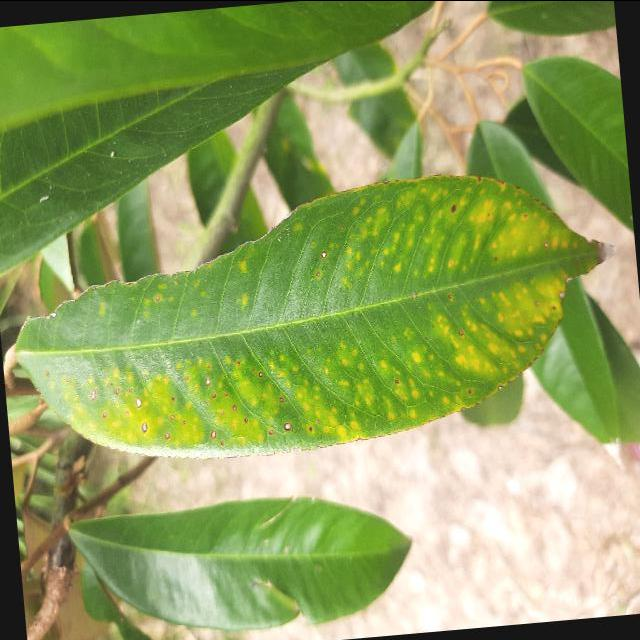Leaf Spot: (0, 146, 639, 489)
